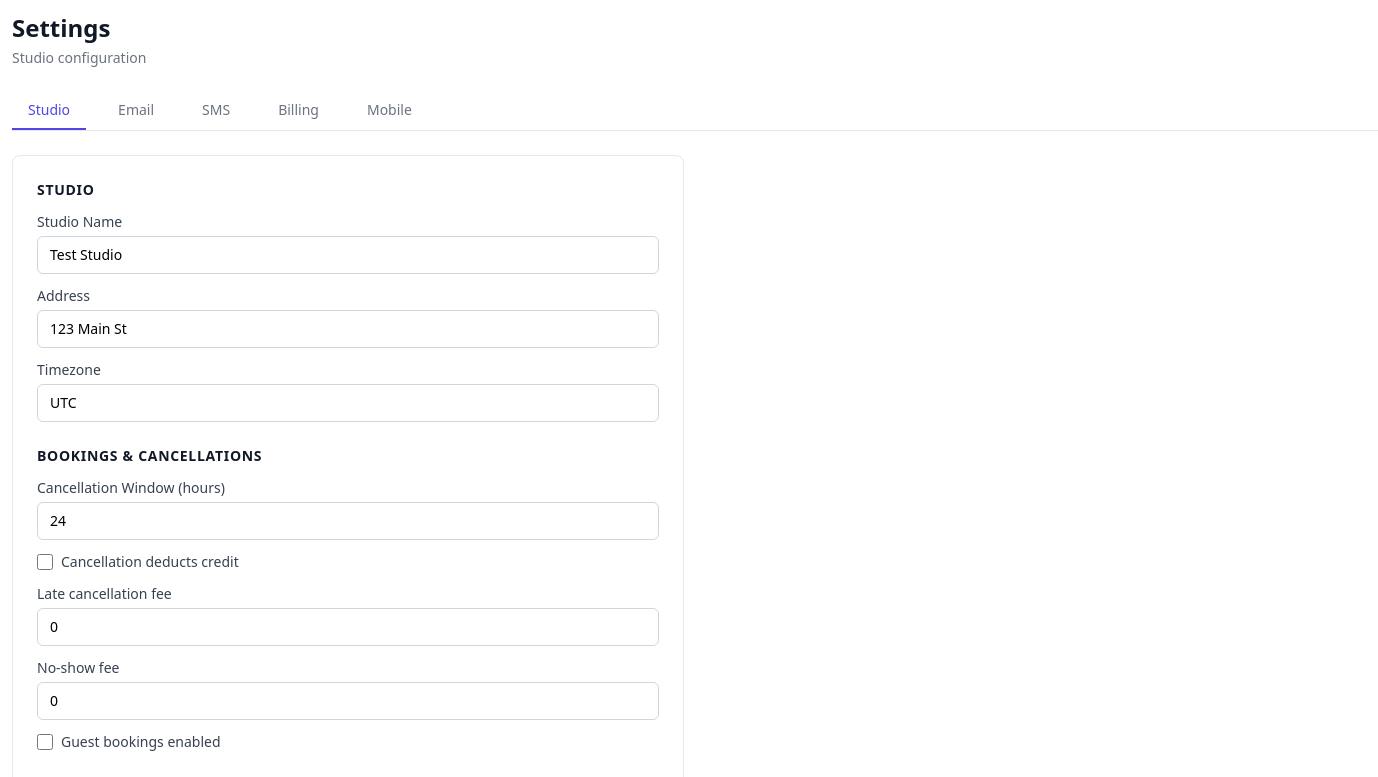
Test: SettingsPage › Billing tab is accessible and shows connection status when clicked
The width and height of the screenshot is (1378, 777).
Step 1. Click the tab "Billing" → [298, 111], box [262,92,335,130]
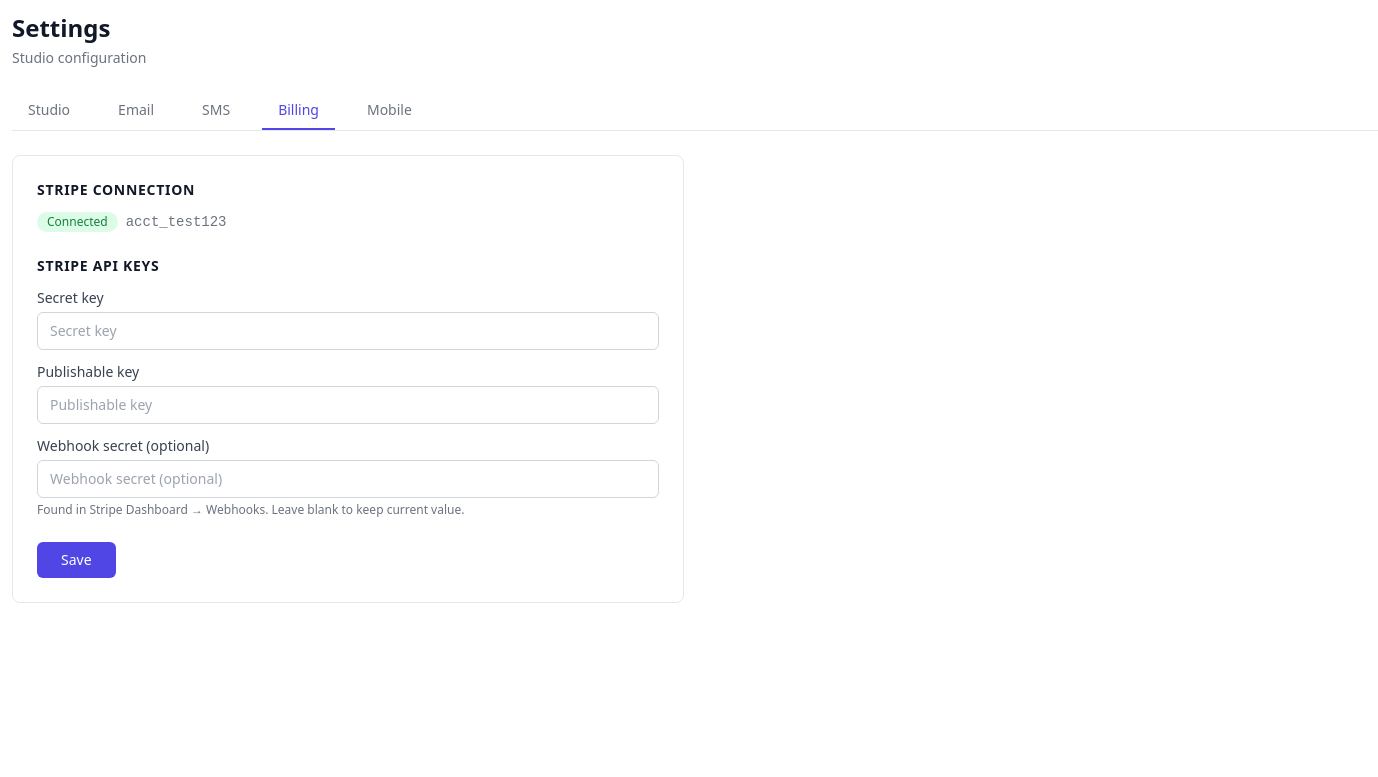
Check: the heading "Stripe connection" is shown, box [37,180,195,199]
